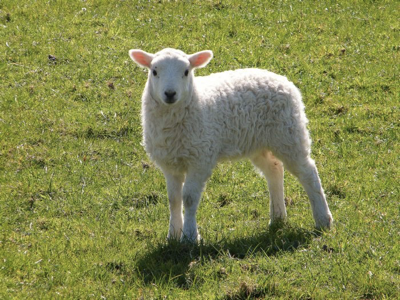koyun: (127, 48, 334, 245)
